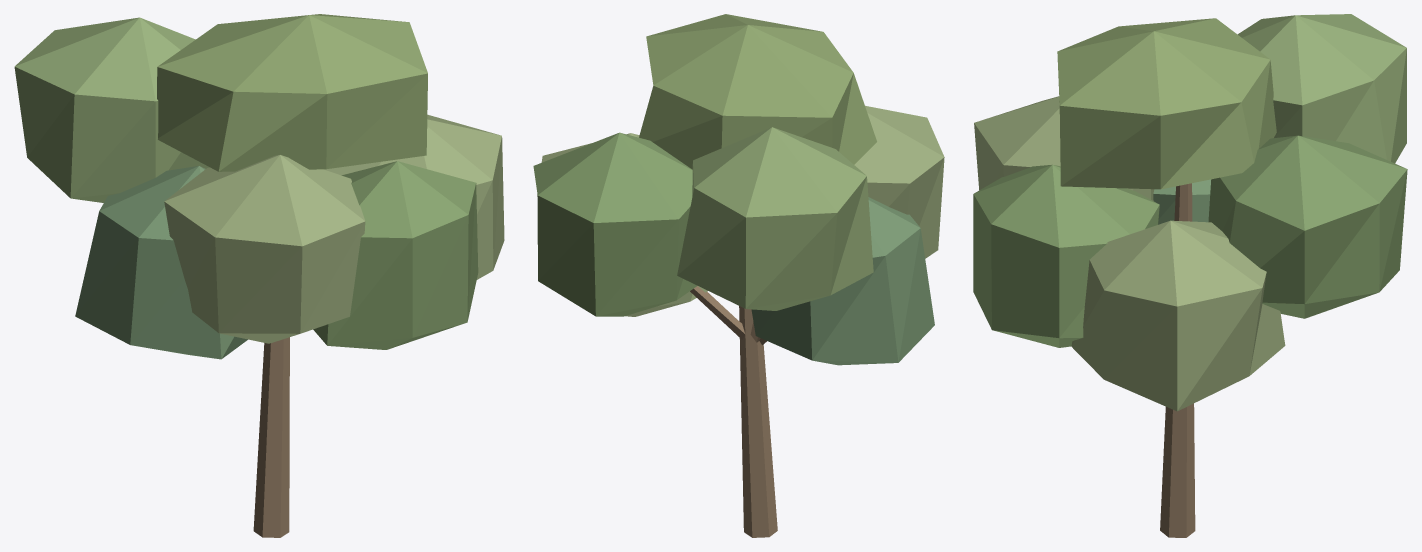
3 renders of one model, left to right at view 1: azimuth 30°, elevation 25°; view 2: azimuth 150°, elevation 25°; view 3: azimuth 270°, elevation 25°, orthographic. The views are drawn at different scales.
Bounding box in the file's own units: 6.77 × 8.33 × 6.4.
